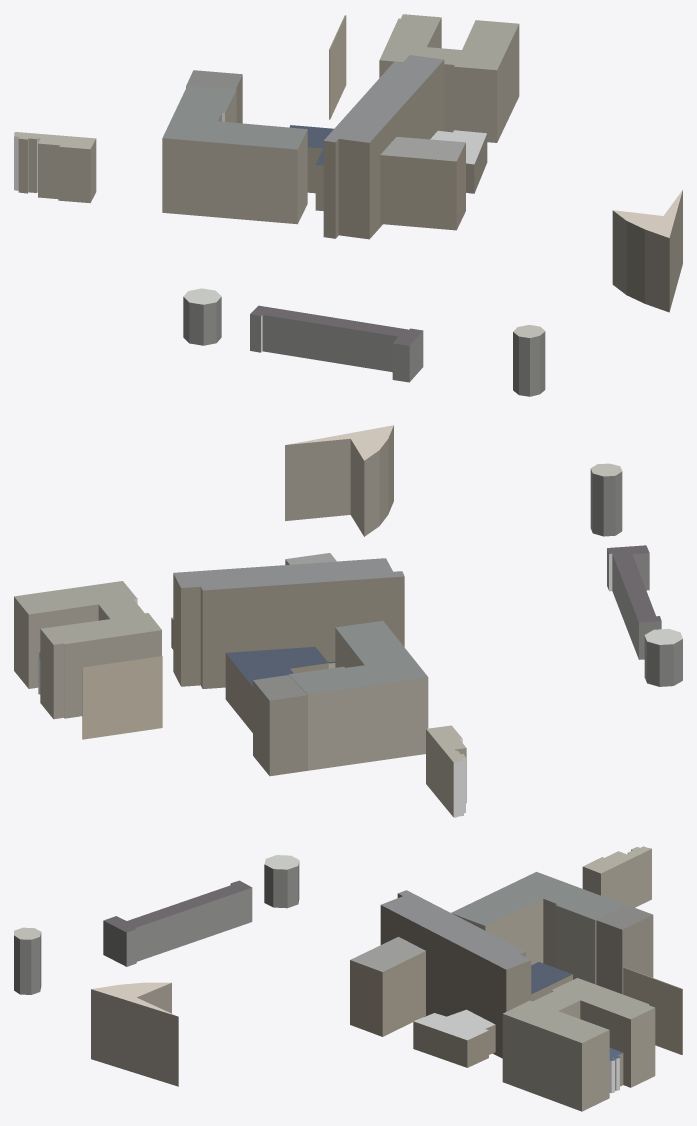
3 renders of one model, top to bottom at view 1: azimuth 30°, elevation 25°; view 2: azimuth 150°, elevation 25°; view 3: azimuth 270°, elevation 25°, orthographic. The views are drawn at different scales.
Visible parts, largest first — view 1: tuile; view 2: tuile; view 3: tuile.
Part boxes in pixels (x1,y1,x2,y2): tuile: (14, 14, 682, 396); tuile: (14, 425, 682, 817); tuile: (14, 846, 682, 1111).
Bounding box in the file's own units: 208 × 43.68 × 260.
